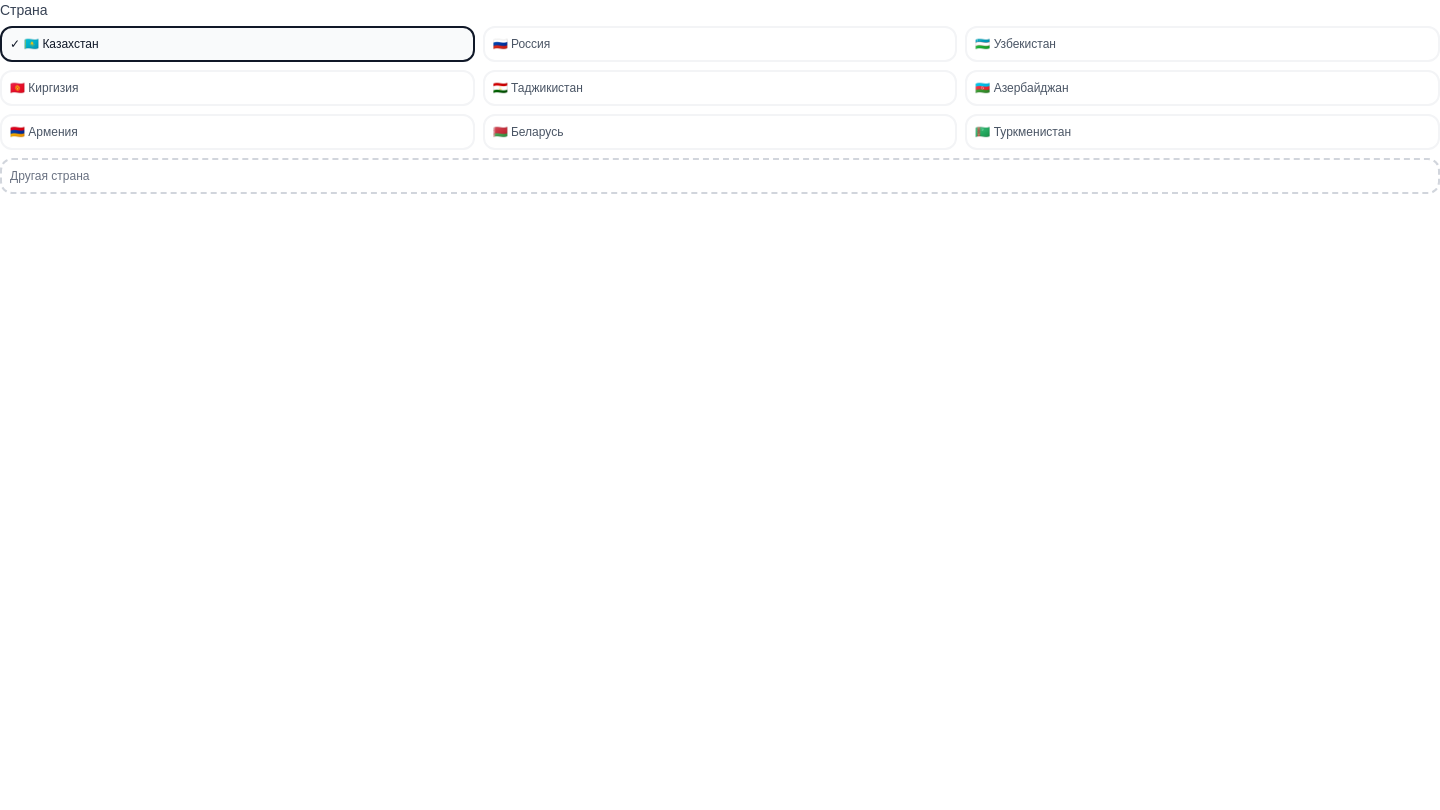
Test: CountrySelect › does not show CIS countries again inside the search modal
Step 1. Click the button "Другая страна" → coordinates (50, 176), box 0,158 -> 1439,194
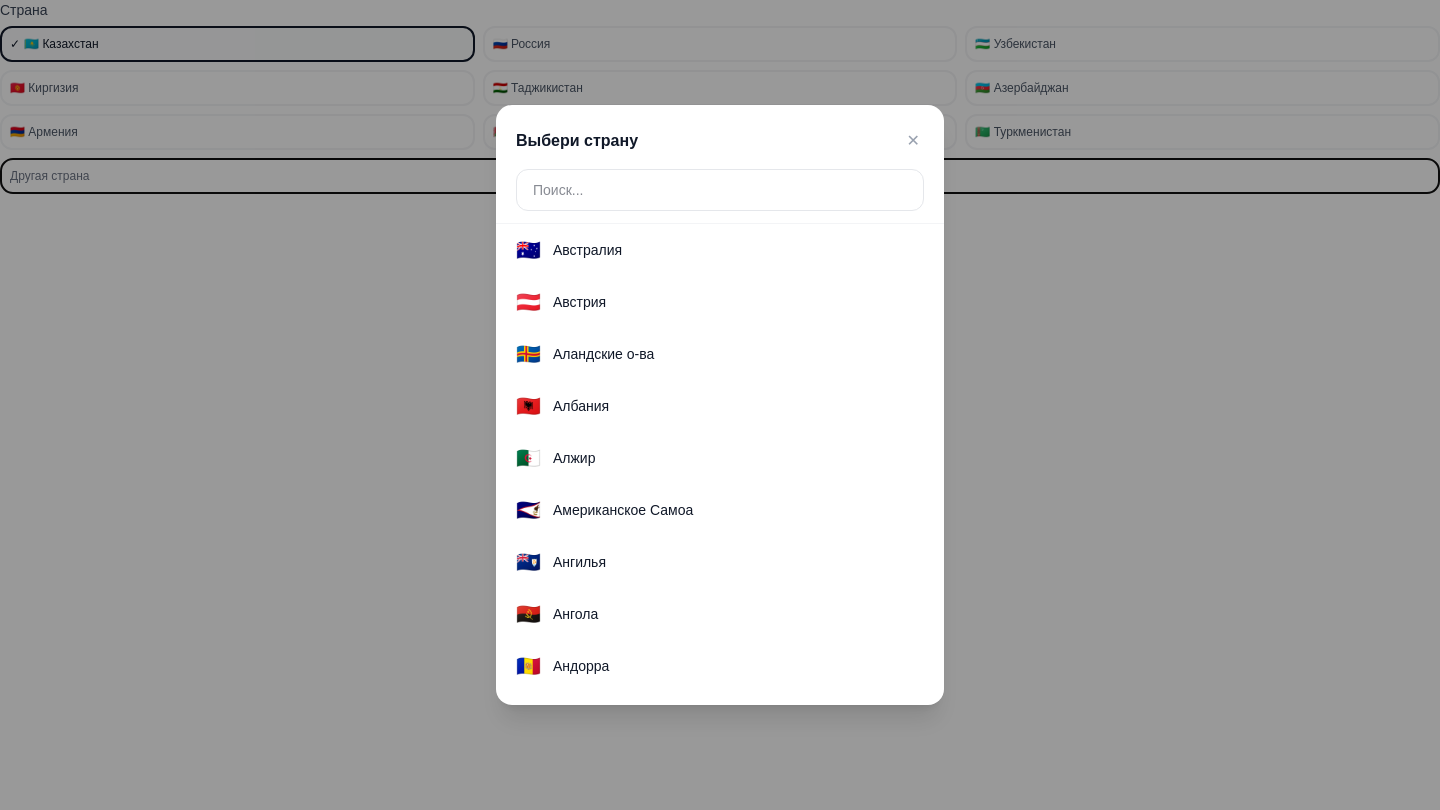
Step 2. Type "узбек" into the search field with placeholder "Поиск..." → coordinates (720, 190), box 516,169 -> 924,211
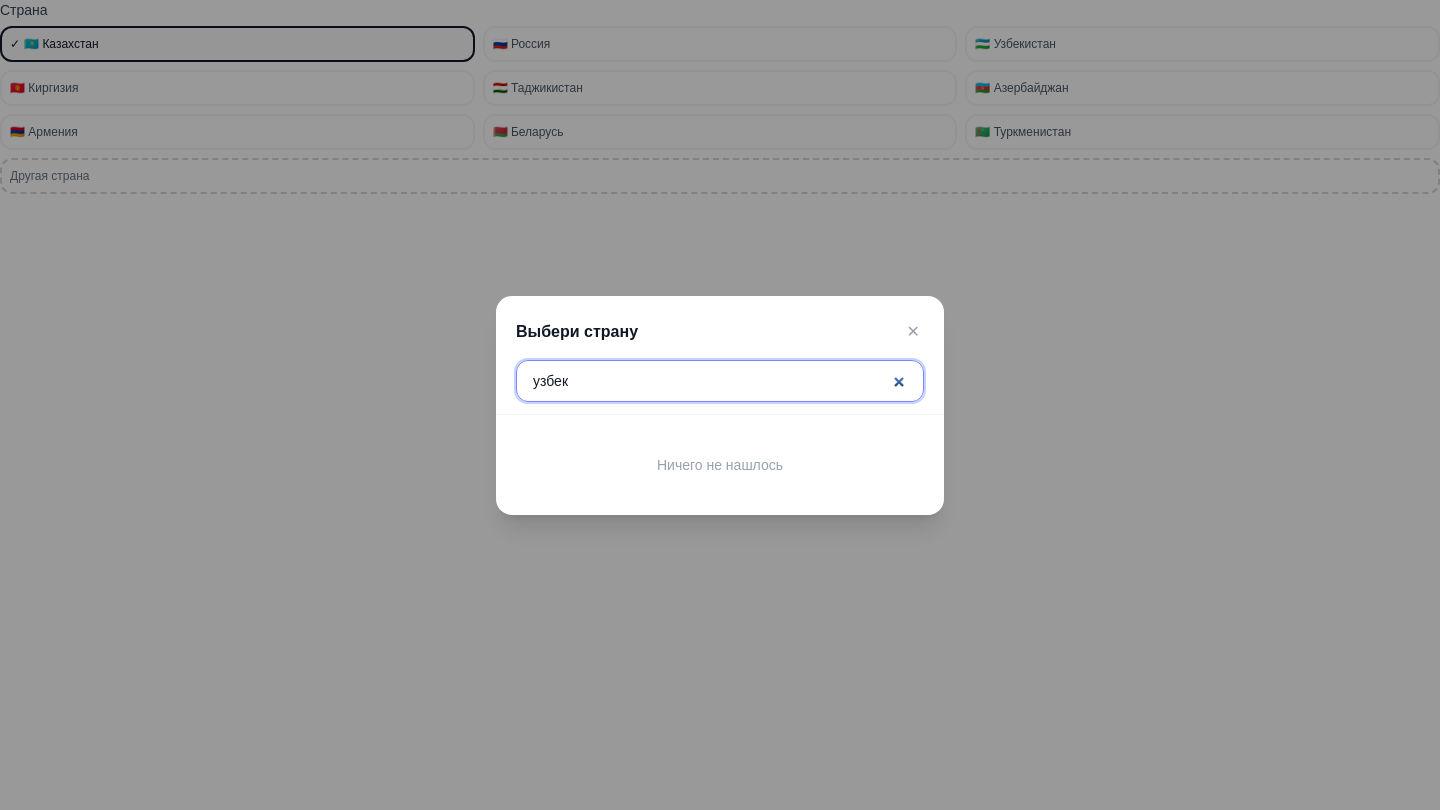
Now the text "Ничего не нашлось" is shown, box 657,456 -> 783,472
